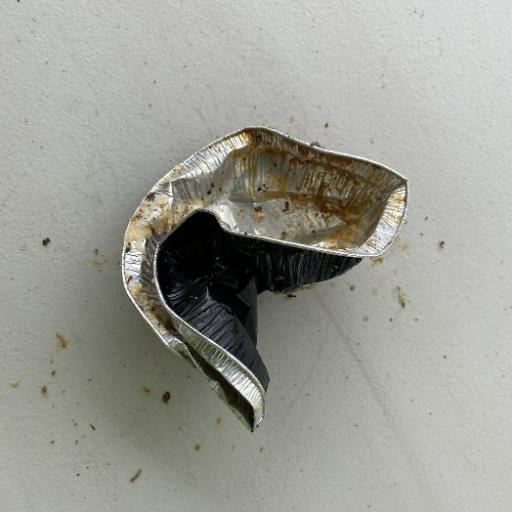Metal: (118, 123, 410, 433)
